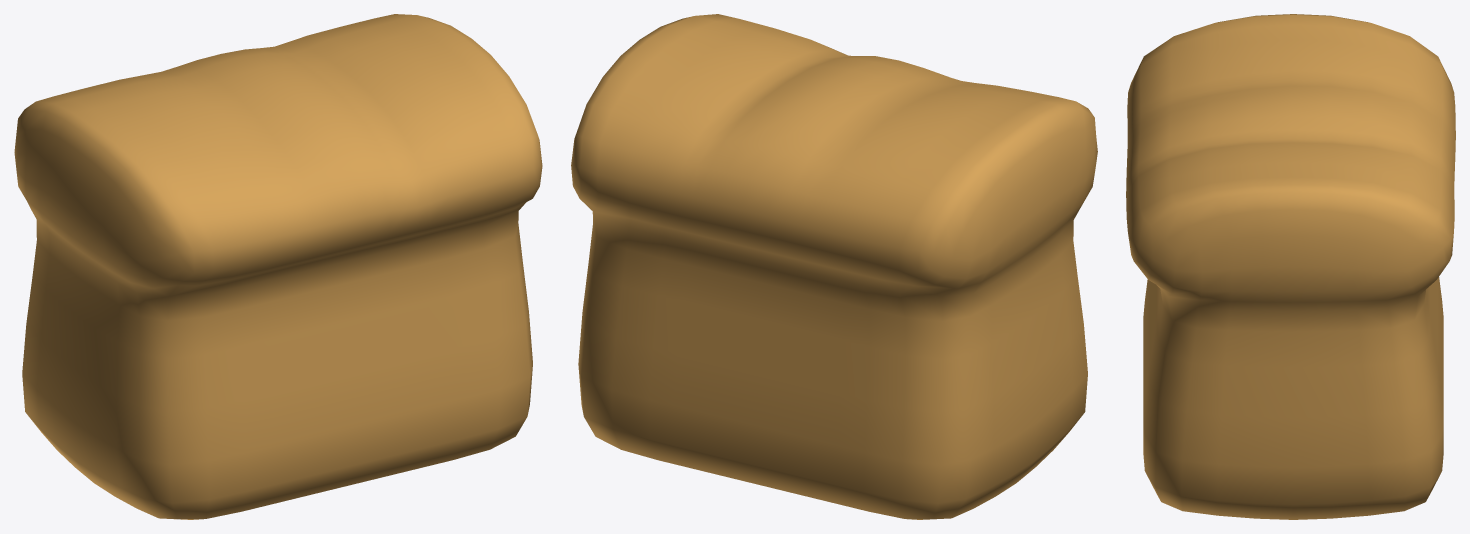
Rendered from Bread.glb.
3 renders of one model, left to right at view 1: azimuth 30°, elevation 25°; view 2: azimuth 150°, elevation 25°; view 3: azimuth 270°, elevation 25°, orthographic. The views are drawn at different scales.
Visible parts, largest first — view 1: Bread; view 2: Bread; view 3: Bread.
Boxes of the visible parts, x1,y1,x2,y2 form: Bread: (14, 14, 542, 519); Bread: (571, 14, 1097, 519); Bread: (1126, 14, 1455, 519).
Bounding box in the file's own units: 0.9494 × 0.7934 × 0.6836.
